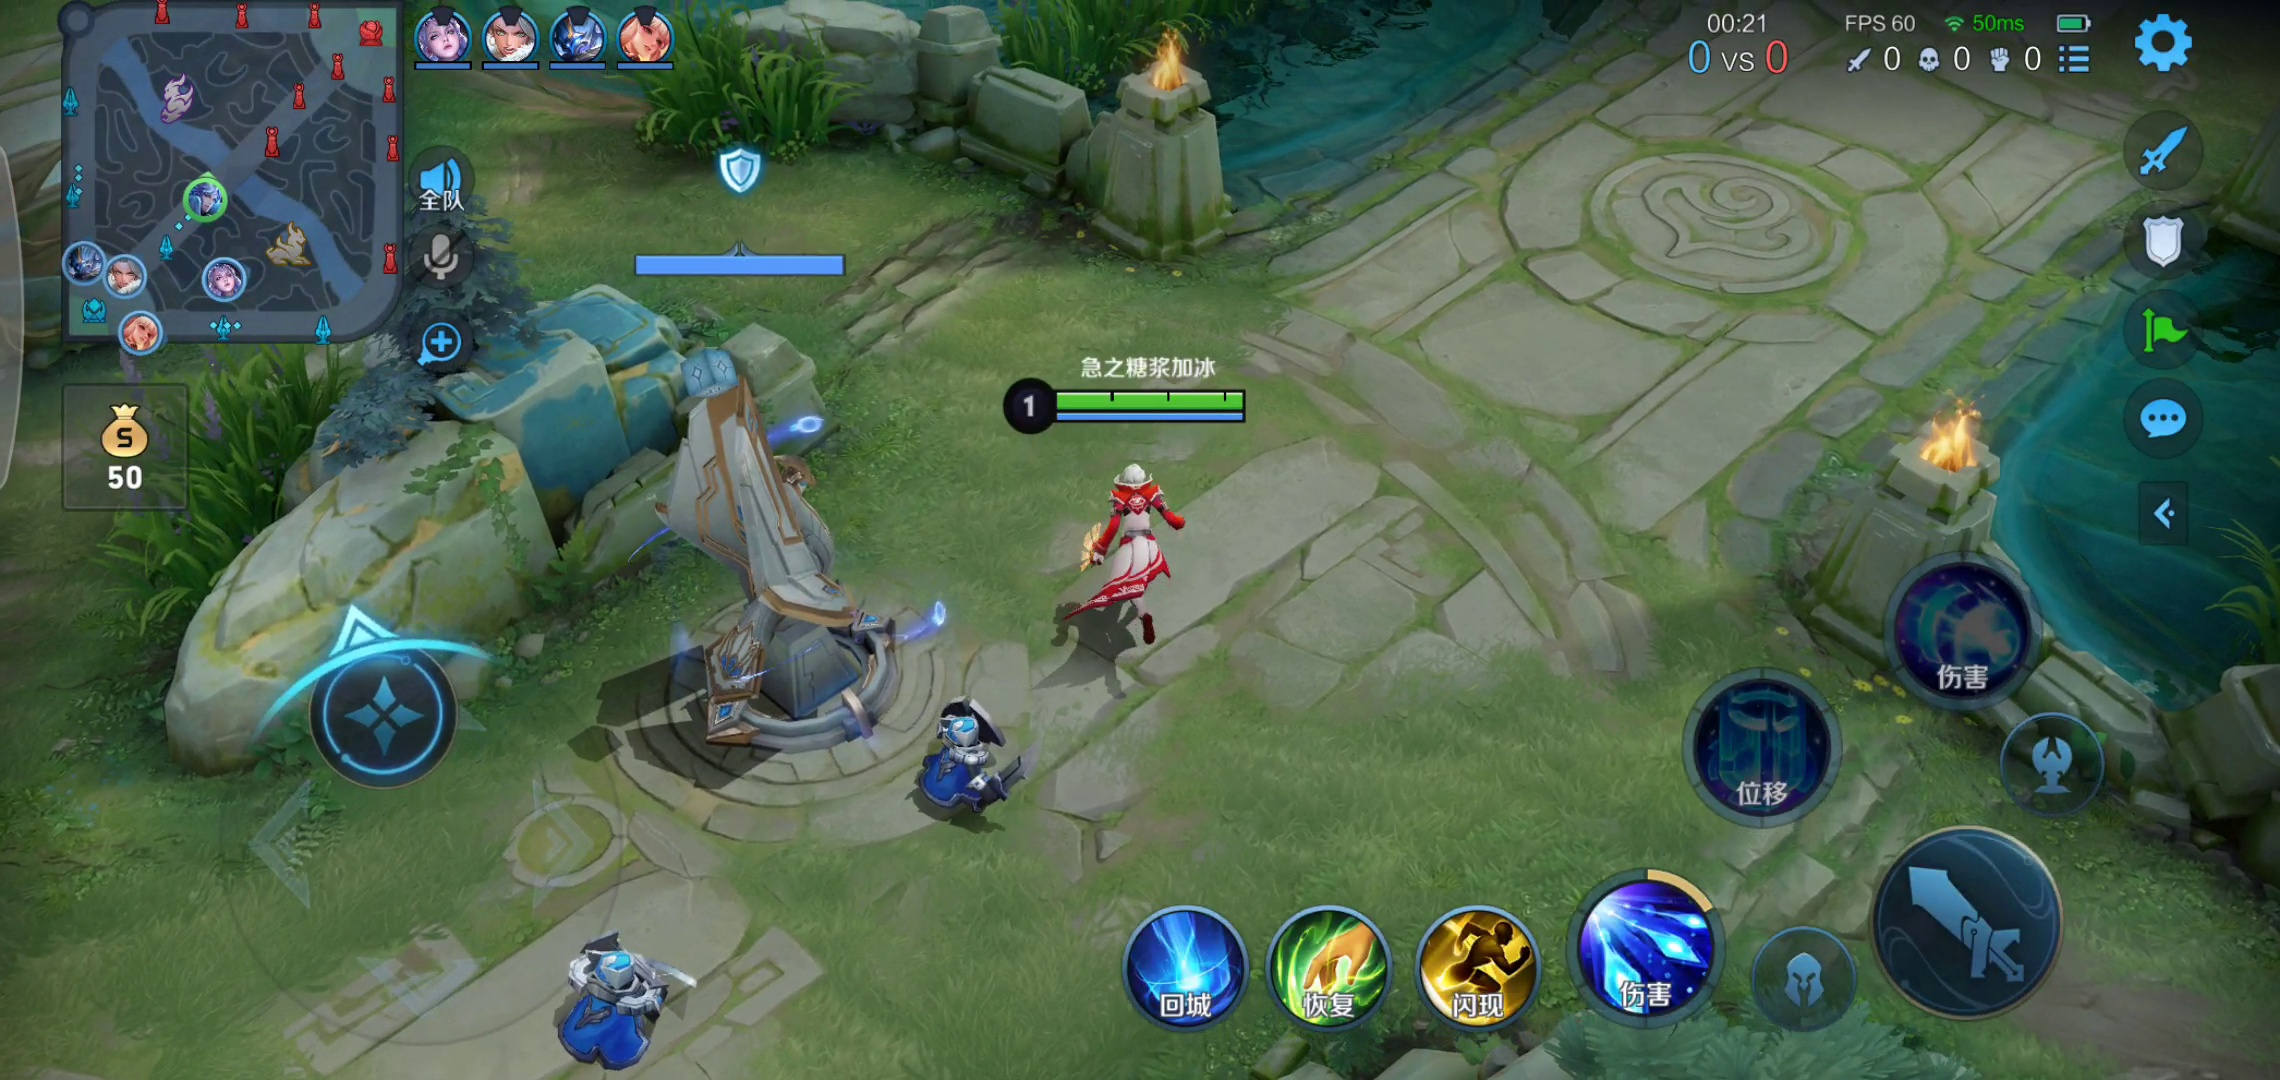grass: (84, 363, 374, 621), (615, 12, 849, 172), (979, 1, 1264, 106)
hero: (1051, 448, 1194, 656)
soldier: (539, 935, 714, 1073), (900, 705, 1044, 827)
tower: (635, 363, 909, 762)
